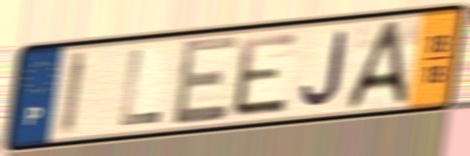A: (343, 17, 411, 113)
E: (170, 32, 241, 130), (230, 29, 301, 120)
I: (56, 47, 91, 140)
J: (298, 29, 350, 109)
L: (117, 47, 164, 129)
